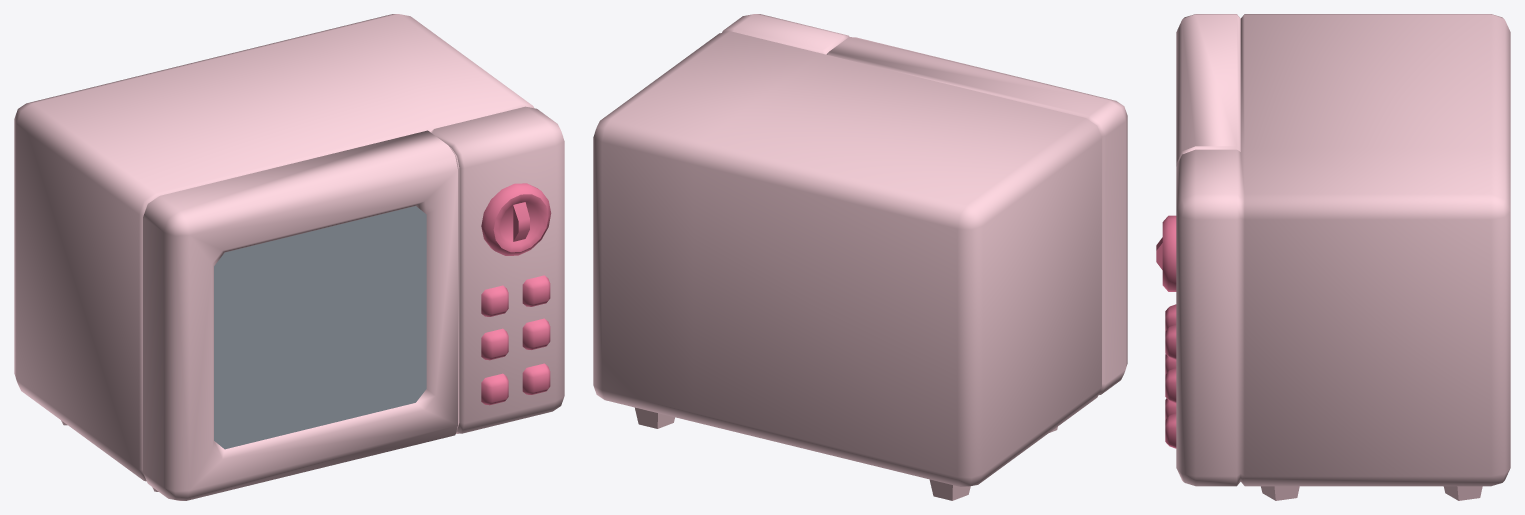
File: micro_ondas_pacote.glb
3 renders of one model, left to right at view 1: azimuth 30°, elevation 25°; view 2: azimuth 150°, elevation 25°; view 3: azimuth 270°, elevation 25°, orthographic. The views are drawn at different scales.
Visible parts, largest first — view 1: micro_ondas_pacote, porta; view 2: micro_ondas_pacote, porta; view 3: micro_ondas_pacote, porta.
Part boxes in pixels (box(x1,y1,x2,y2)): micro_ondas_pacote: box(14, 14, 564, 491); porta: box(143, 130, 459, 500); micro_ondas_pacote: box(593, 14, 1101, 500); porta: box(827, 37, 1127, 395); micro_ondas_pacote: box(1156, 14, 1510, 500); porta: box(1176, 14, 1240, 166).
Size of the model in its own units: 0.4289 by 0.3219 by 0.3281.
Materials: 1 (1 with a texture image).
